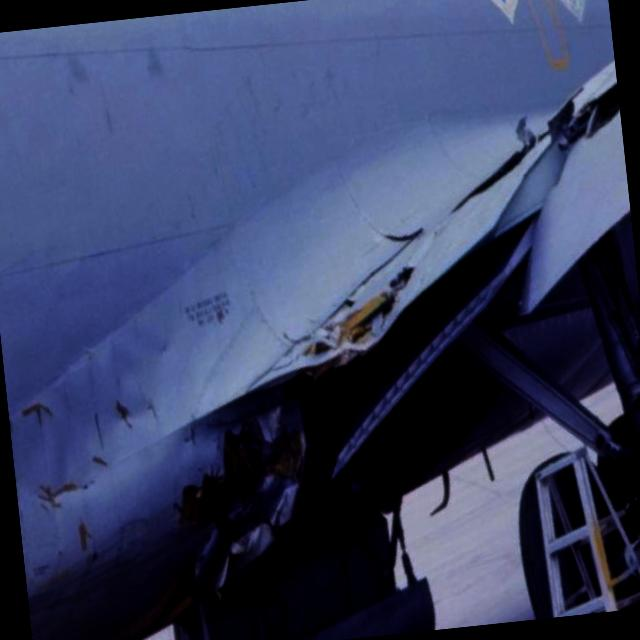dent: (28, 321, 182, 498)
